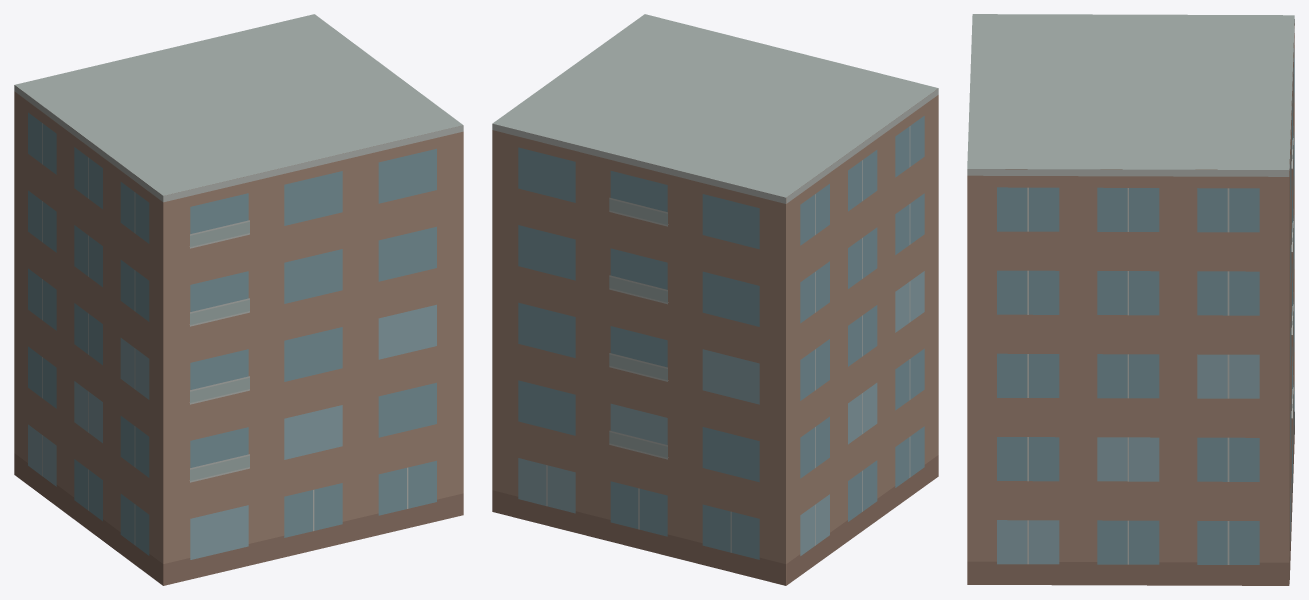
File: survey-upis-32952478.glb
3 views of the same model, side by side, from view 1: azimuth 30°, elevation 25°; view 2: azimuth 150°, elevation 25°; view 3: azimuth 270°, elevation 25° (orthographic). The views are drawn at different scales.
Visible parts, largest first — view 1: survey-upis-32952478.tmp; view 2: survey-upis-32952478.tmp; view 3: survey-upis-32952478.tmp.
Boxes of the visible parts, x1=… form: survey-upis-32952478.tmp: x1=14, y1=14, x2=463, y2=585; survey-upis-32952478.tmp: x1=492, y1=14, x2=938, y2=585; survey-upis-32952478.tmp: x1=967, y1=14, x2=1294, y2=585.
Bounding box in the file's own units: 11.92 × 14.8 × 10.58.
